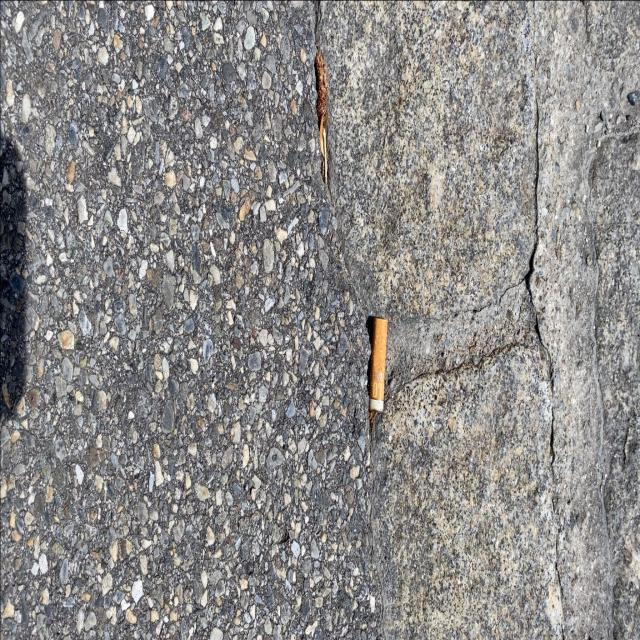other waste: (368, 315, 388, 414)
